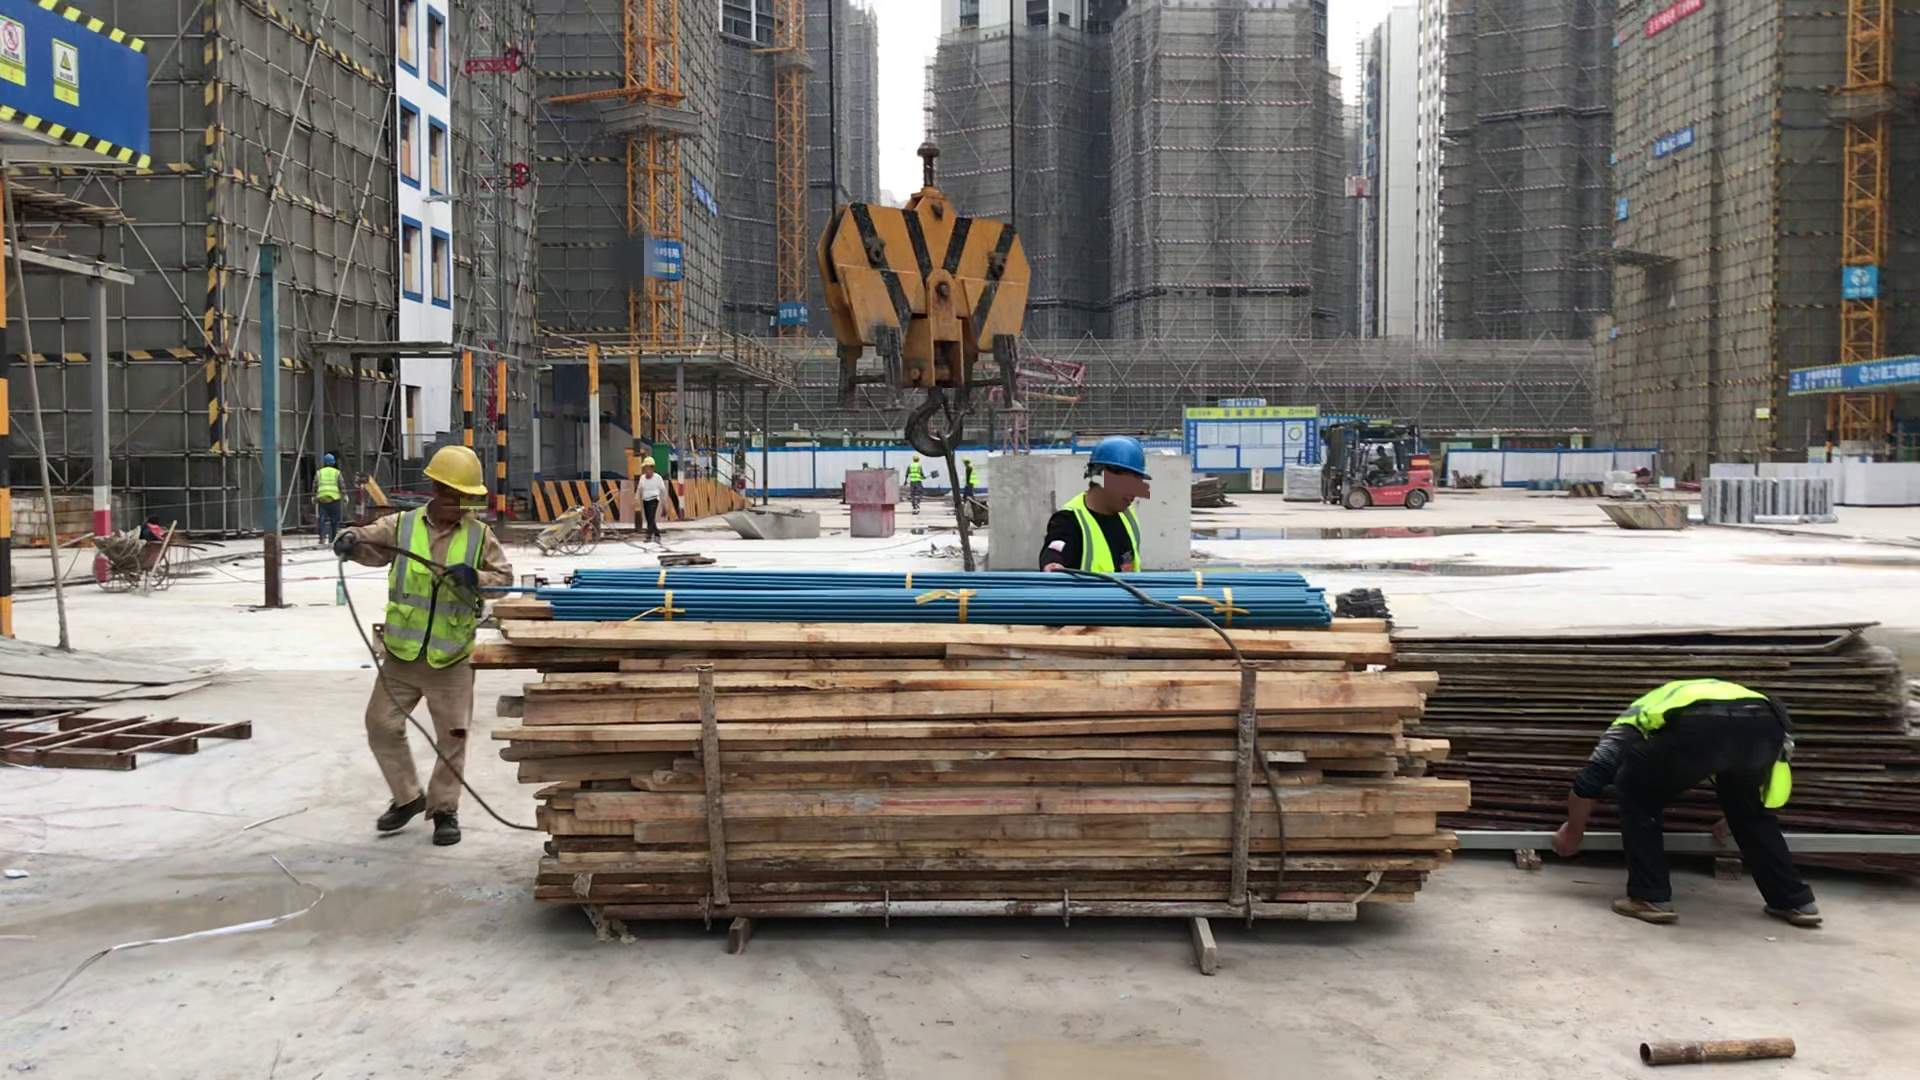board: (1397, 600, 1920, 853)
handcart: (87, 519, 215, 590)
helmet: (1075, 430, 1164, 477), (424, 435, 493, 497), (636, 447, 669, 481), (316, 448, 339, 470), (906, 445, 922, 467)
hook: (805, 125, 1047, 418)
hopper: (723, 495, 832, 550), (1606, 482, 1701, 545)
person: (1586, 670, 1821, 941), (365, 440, 491, 847), (1051, 418, 1149, 578), (310, 451, 342, 549), (635, 448, 669, 539), (905, 451, 926, 510), (1372, 438, 1394, 486), (958, 459, 982, 500)
scaffold: (1715, 465, 1840, 526)
vest: (379, 524, 488, 663), (1620, 678, 1783, 728), (1062, 499, 1151, 574), (313, 471, 339, 496), (910, 464, 924, 479), (962, 466, 976, 474)
wood: (482, 615, 1449, 929)
